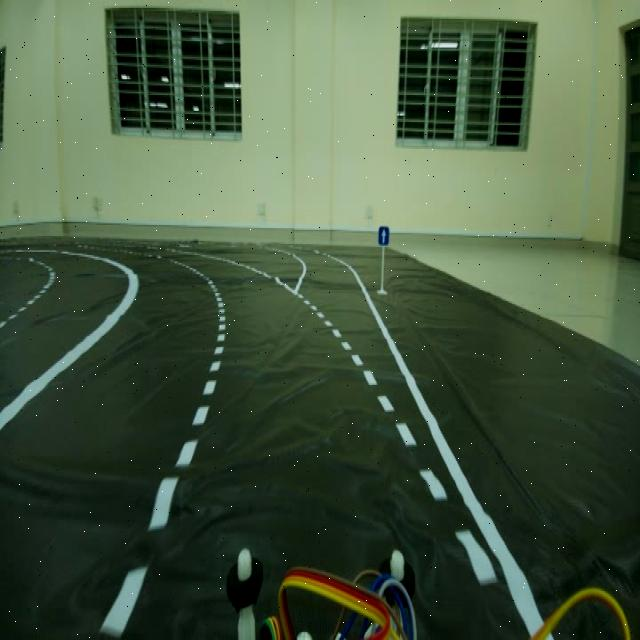onewayroad: (374, 220, 392, 258)
